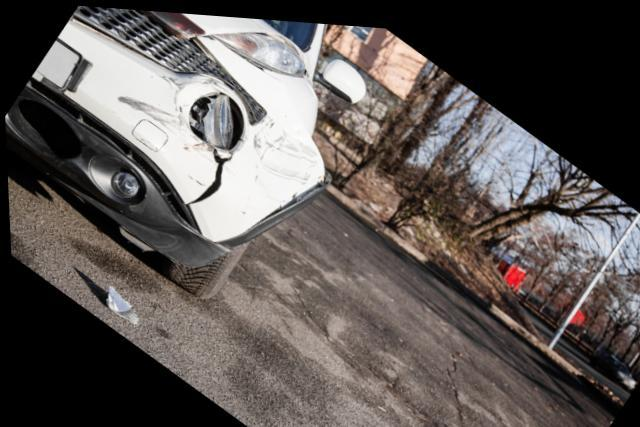crack: (184, 145, 231, 202)
lamp broken: (189, 91, 238, 148)
scratch: (121, 71, 216, 156), (247, 114, 316, 178)
